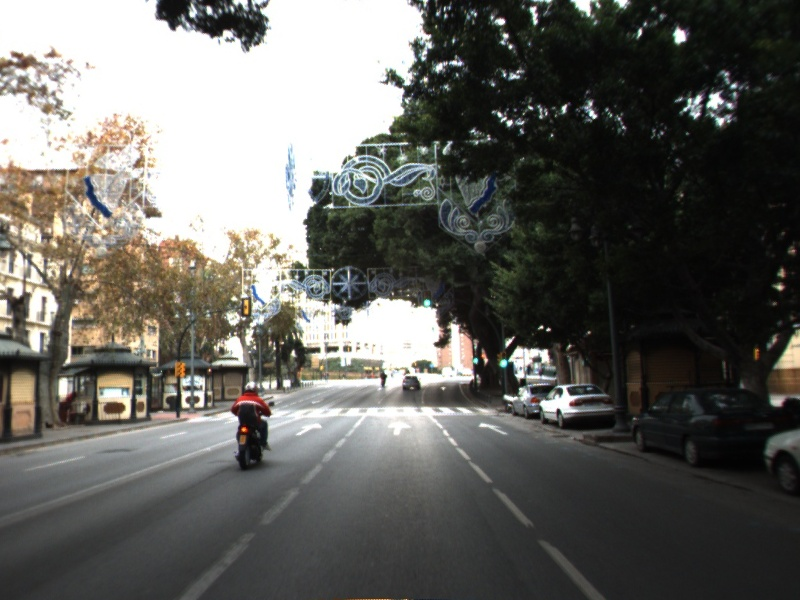STRAIGHT: (476, 420, 512, 437), (293, 420, 324, 438), (385, 419, 414, 438)
